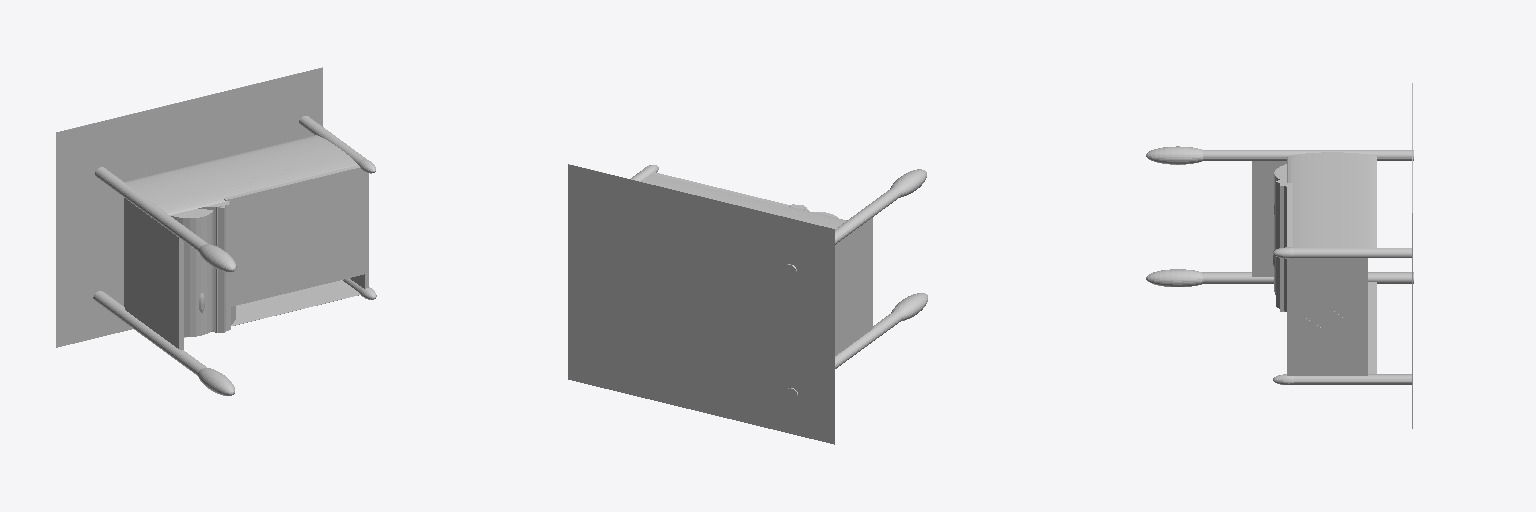
Rendered from bed.obj.
The picture shows the model from 3 angles: view 1: azimuth 30°, elevation 25°; view 2: azimuth 150°, elevation 25°; view 3: azimuth 270°, elevation 25°; orthographic projection.
Parts seen in each view (by area): view 1: obj_0; view 2: obj_0; view 3: obj_0.
Part boxes in pixels (x1,y1,x2,y2): obj_0: (56,67,376,395); obj_0: (568,164,927,444); obj_0: (1146,83,1413,428).
Size of the model in its own units: 96 by 74 by 83.5.